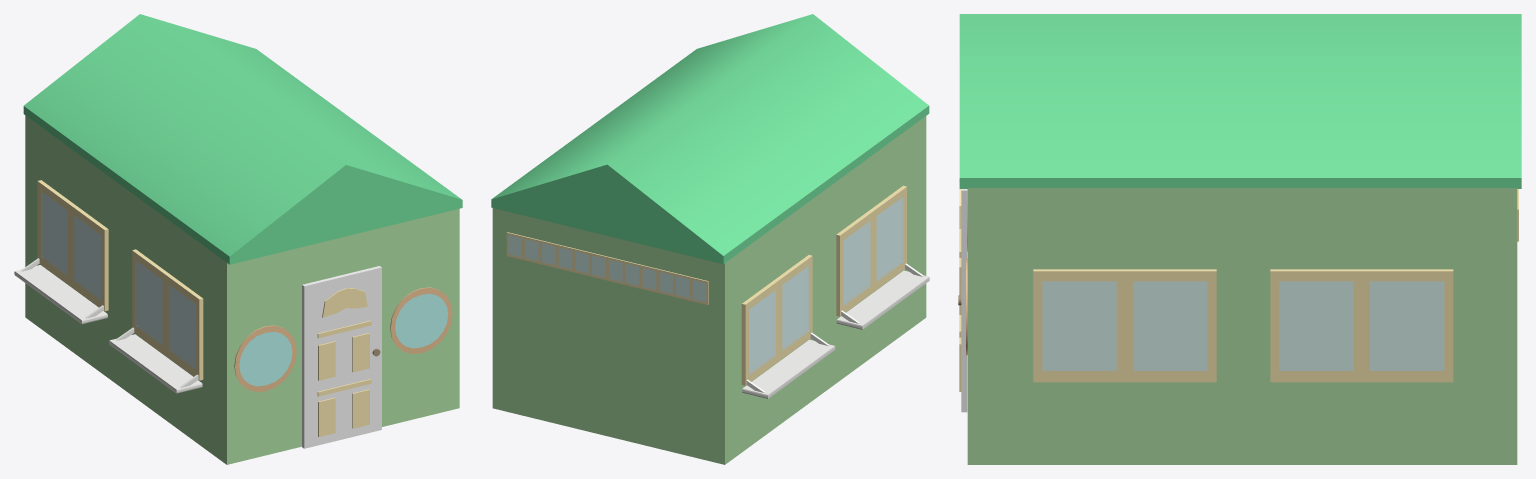
Rendered from House_03.fbx.
3 views of the same model, side by side, from view 1: azimuth 30°, elevation 25°; view 2: azimuth 150°, elevation 25°; view 3: azimuth 270°, elevation 25° (orthographic). The views are drawn at different scales.
Parts seen in each view (by area): view 1: pCube67, pCube68, pCube44, polySurface10 (×2), polySurface7 (×2), polySurface13 (×2), pCube52, pCube40 (×2), polySurface11 (×2); view 2: pCube68, pCube67, polySurface10 (×2), polySurface7 (×2), Window36, pCube40 (×2); view 3: pCube68, pCube67, polySurface10 (×2), polySurface7 (×2), pCube44, pCube52.
Part boxes in pixels (x1,y1,x2,y2): pCube67: [23, 14, 462, 264]; pCube68: [25, 115, 459, 464]; pCube44: [302, 266, 381, 448]; polySurface10 (×2): [41, 191, 195, 369]; polySurface7 (×2): [37, 180, 203, 380]; polySurface13 (×2): [239, 293, 448, 386]; pCube52: [317, 288, 371, 436]; pCube40 (×2): [14, 265, 202, 393]; polySurface11 (×2): [234, 287, 452, 392]; pCube68: [492, 116, 926, 464]; pCube67: [491, 14, 929, 264]; polySurface10 (×2): [749, 196, 903, 374]; polySurface7 (×2): [741, 185, 906, 385]; Window36: [506, 232, 708, 304]; pCube40 (×2): [742, 270, 929, 398]; pCube68: [967, 188, 1517, 464]; pCube67: [959, 14, 1521, 188]; polySurface10 (×2): [1042, 281, 1444, 370]; polySurface7 (×2): [1033, 269, 1453, 382]; pCube44: [961, 189, 967, 412]; pCube52: [959, 179, 961, 391].
Size of the model in its own units: 339 by 338 by 461.
